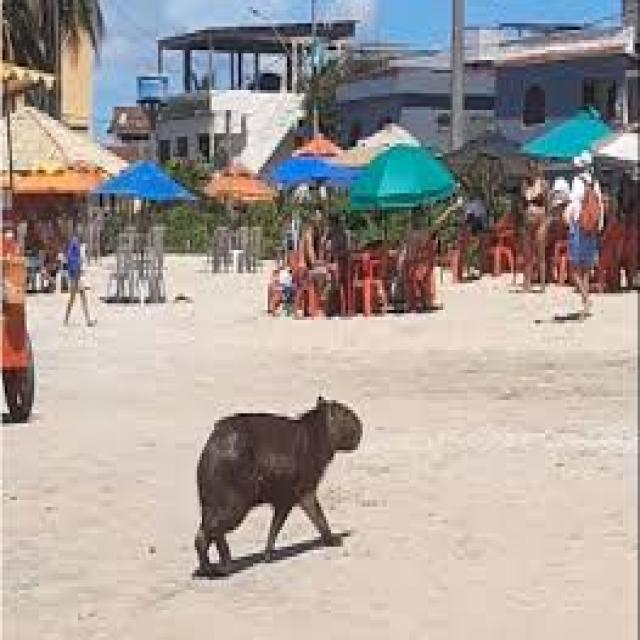capy: (191, 396, 366, 580)
